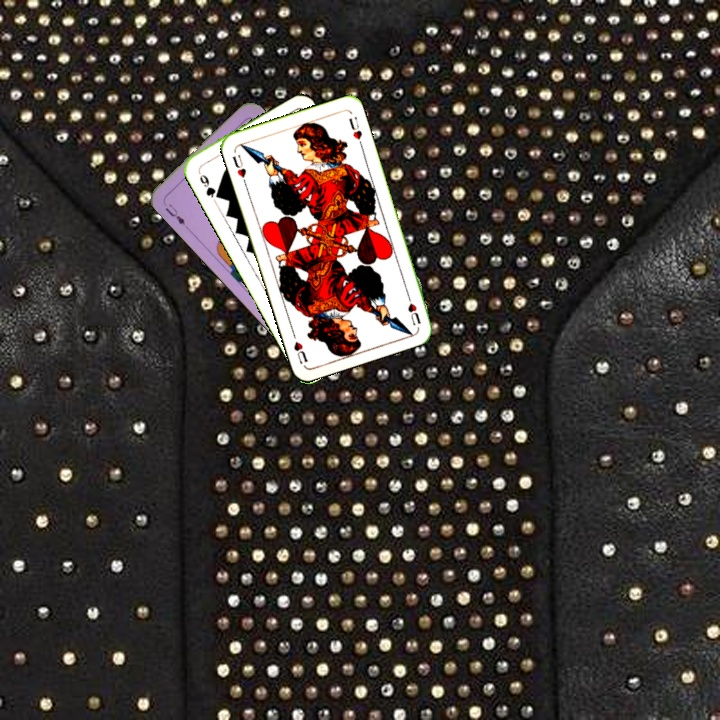EU: (159, 198, 188, 227)
G9: (195, 170, 223, 201)
HU: (403, 289, 424, 328), (228, 150, 249, 180)
